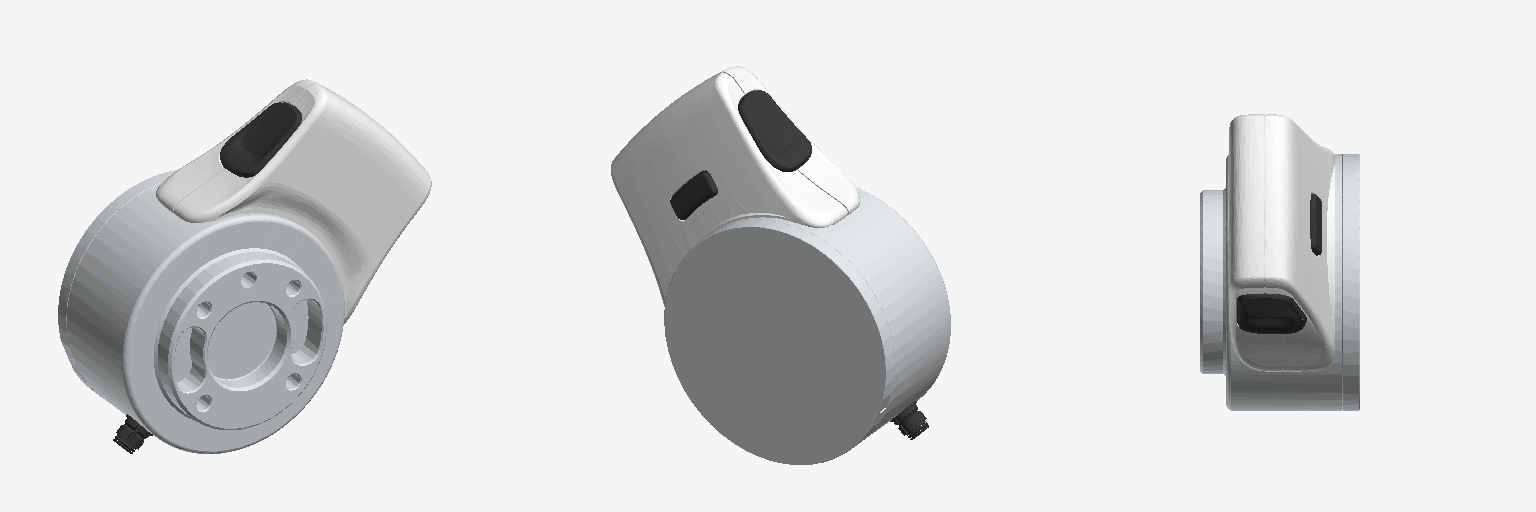
The picture shows the model from 3 angles: view 1: azimuth 30°, elevation 25°; view 2: azimuth 150°, elevation 25°; view 3: azimuth 270°, elevation 25°; orthographic projection.
Visible parts, largest first — view 1: Part__Mirroring_000-mesh, Part__Mirroring004_001-mesh, Part__Mirroring003_000-mesh, Part__Mirroring007_000-mesh; view 2: Part__Mirroring_000-mesh, Part__Mirroring004_001-mesh, Part__Mirroring003_000-mesh, Part__Mirroring002_000-mesh, Part__Mirroring007_000-mesh; view 3: Part__Mirroring004_001-mesh, Part__Mirroring_000-mesh, Part__Mirroring001_001-mesh, Part__Mirroring002_000-mesh.
Part boxes in pixels (x1,y1,x2,y2): Part__Mirroring_000-mesh: (58,169,344,453); Part__Mirroring004_001-mesh: (156,79,431,323); Part__Mirroring003_000-mesh: (220,102,301,177); Part__Mirroring007_000-mesh: (116,414,152,449); Part__Mirroring_000-mesh: (664,188,950,464); Part__Mirroring004_001-mesh: (611,66,859,306); Part__Mirroring003_000-mesh: (738,90,811,171); Part__Mirroring002_000-mesh: (670,170,717,219); Part__Mirroring007_000-mesh: (890,401,926,435); Part__Mirroring004_001-mesh: (1229,114,1334,371); Part__Mirroring_000-mesh: (1200,154,1359,410); Part__Mirroring001_001-mesh: (1237,293,1306,333); Part__Mirroring002_000-mesh: (1310,194,1321,255).
Bounding box in the file's own units: 0.1253 × 0.1253 × 0.0548.